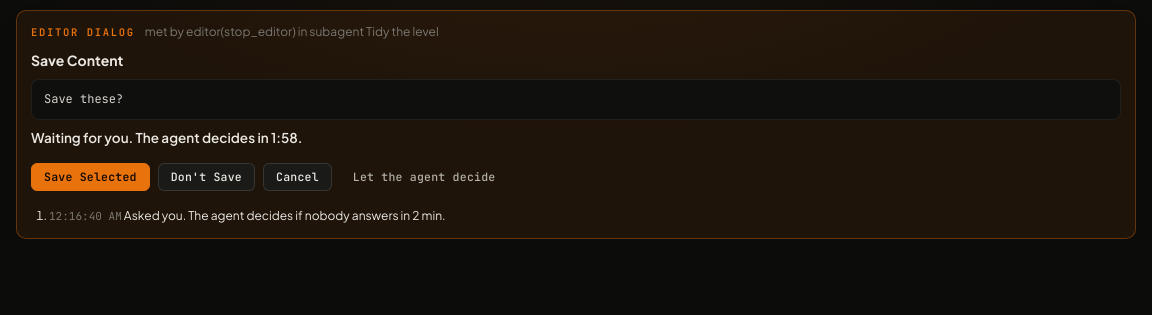
Test: a dialog card › lets the user answer again when the answer did not arrive
Step 1. Click the button "Cancel" → (297, 177), box left=263, top=163, right=332, bottom=191
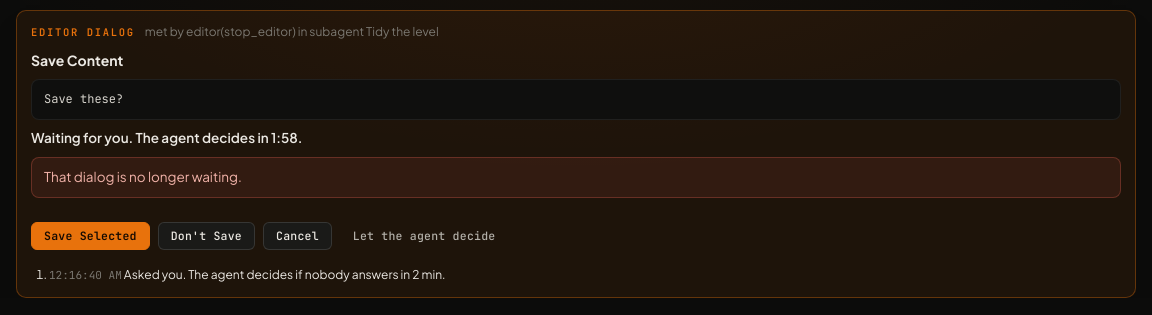
Expected: the button "Cancel" is enabled, left=263, top=222, right=332, bottom=250
Now the text "That dialog is no longer waiting." is shown, box left=31, top=157, right=1121, bottom=198
